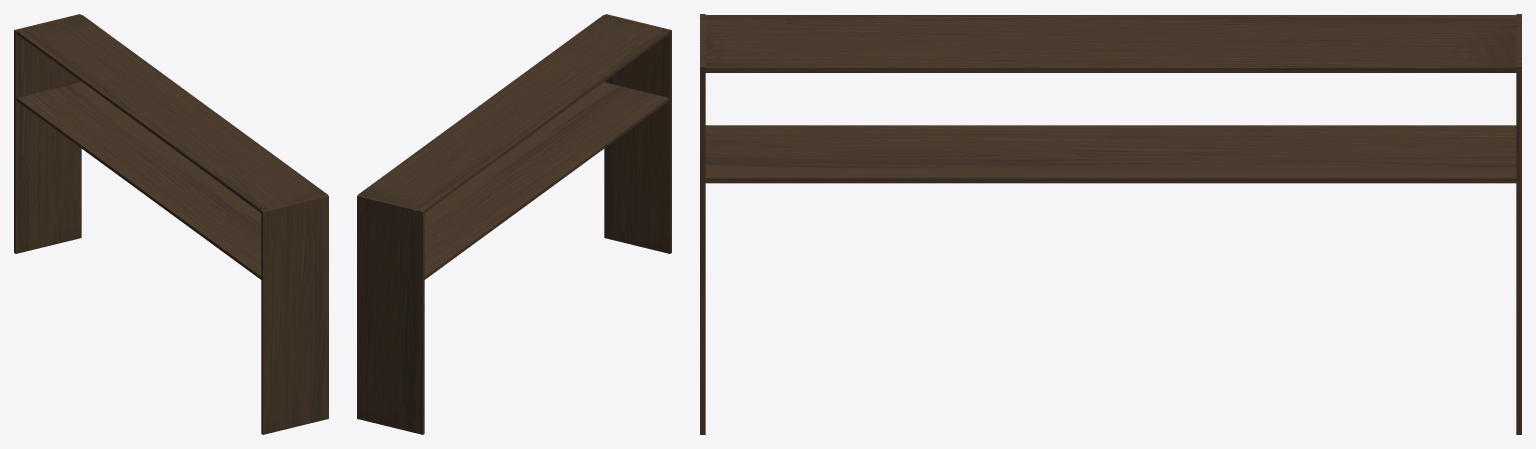
The model's file is otherbookcasemesh.fbx.
The picture shows the model from 3 angles, left to right: view 1: azimuth 30°, elevation 25°; view 2: azimuth 150°, elevation 25°; view 3: azimuth 270°, elevation 25°; orthographic projection. The views are drawn at different scales.
Visible parts, largest first — view 1: Cube.002; view 2: Cube.002; view 3: Cube.002.
Boxes of the visible parts, <box> form: Cube.002: <box>14,14,328,434</box>; Cube.002: <box>357,14,671,434</box>; Cube.002: <box>700,14,1521,434</box>.
Bounding box in the file's own units: 230 × 732 × 1482.
